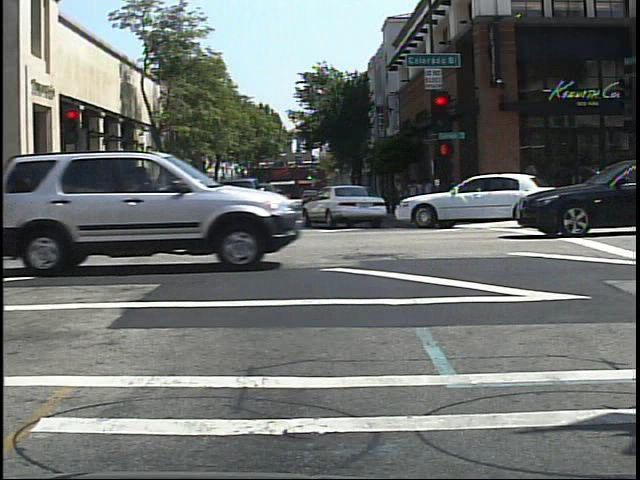person: (117, 181, 136, 221)
